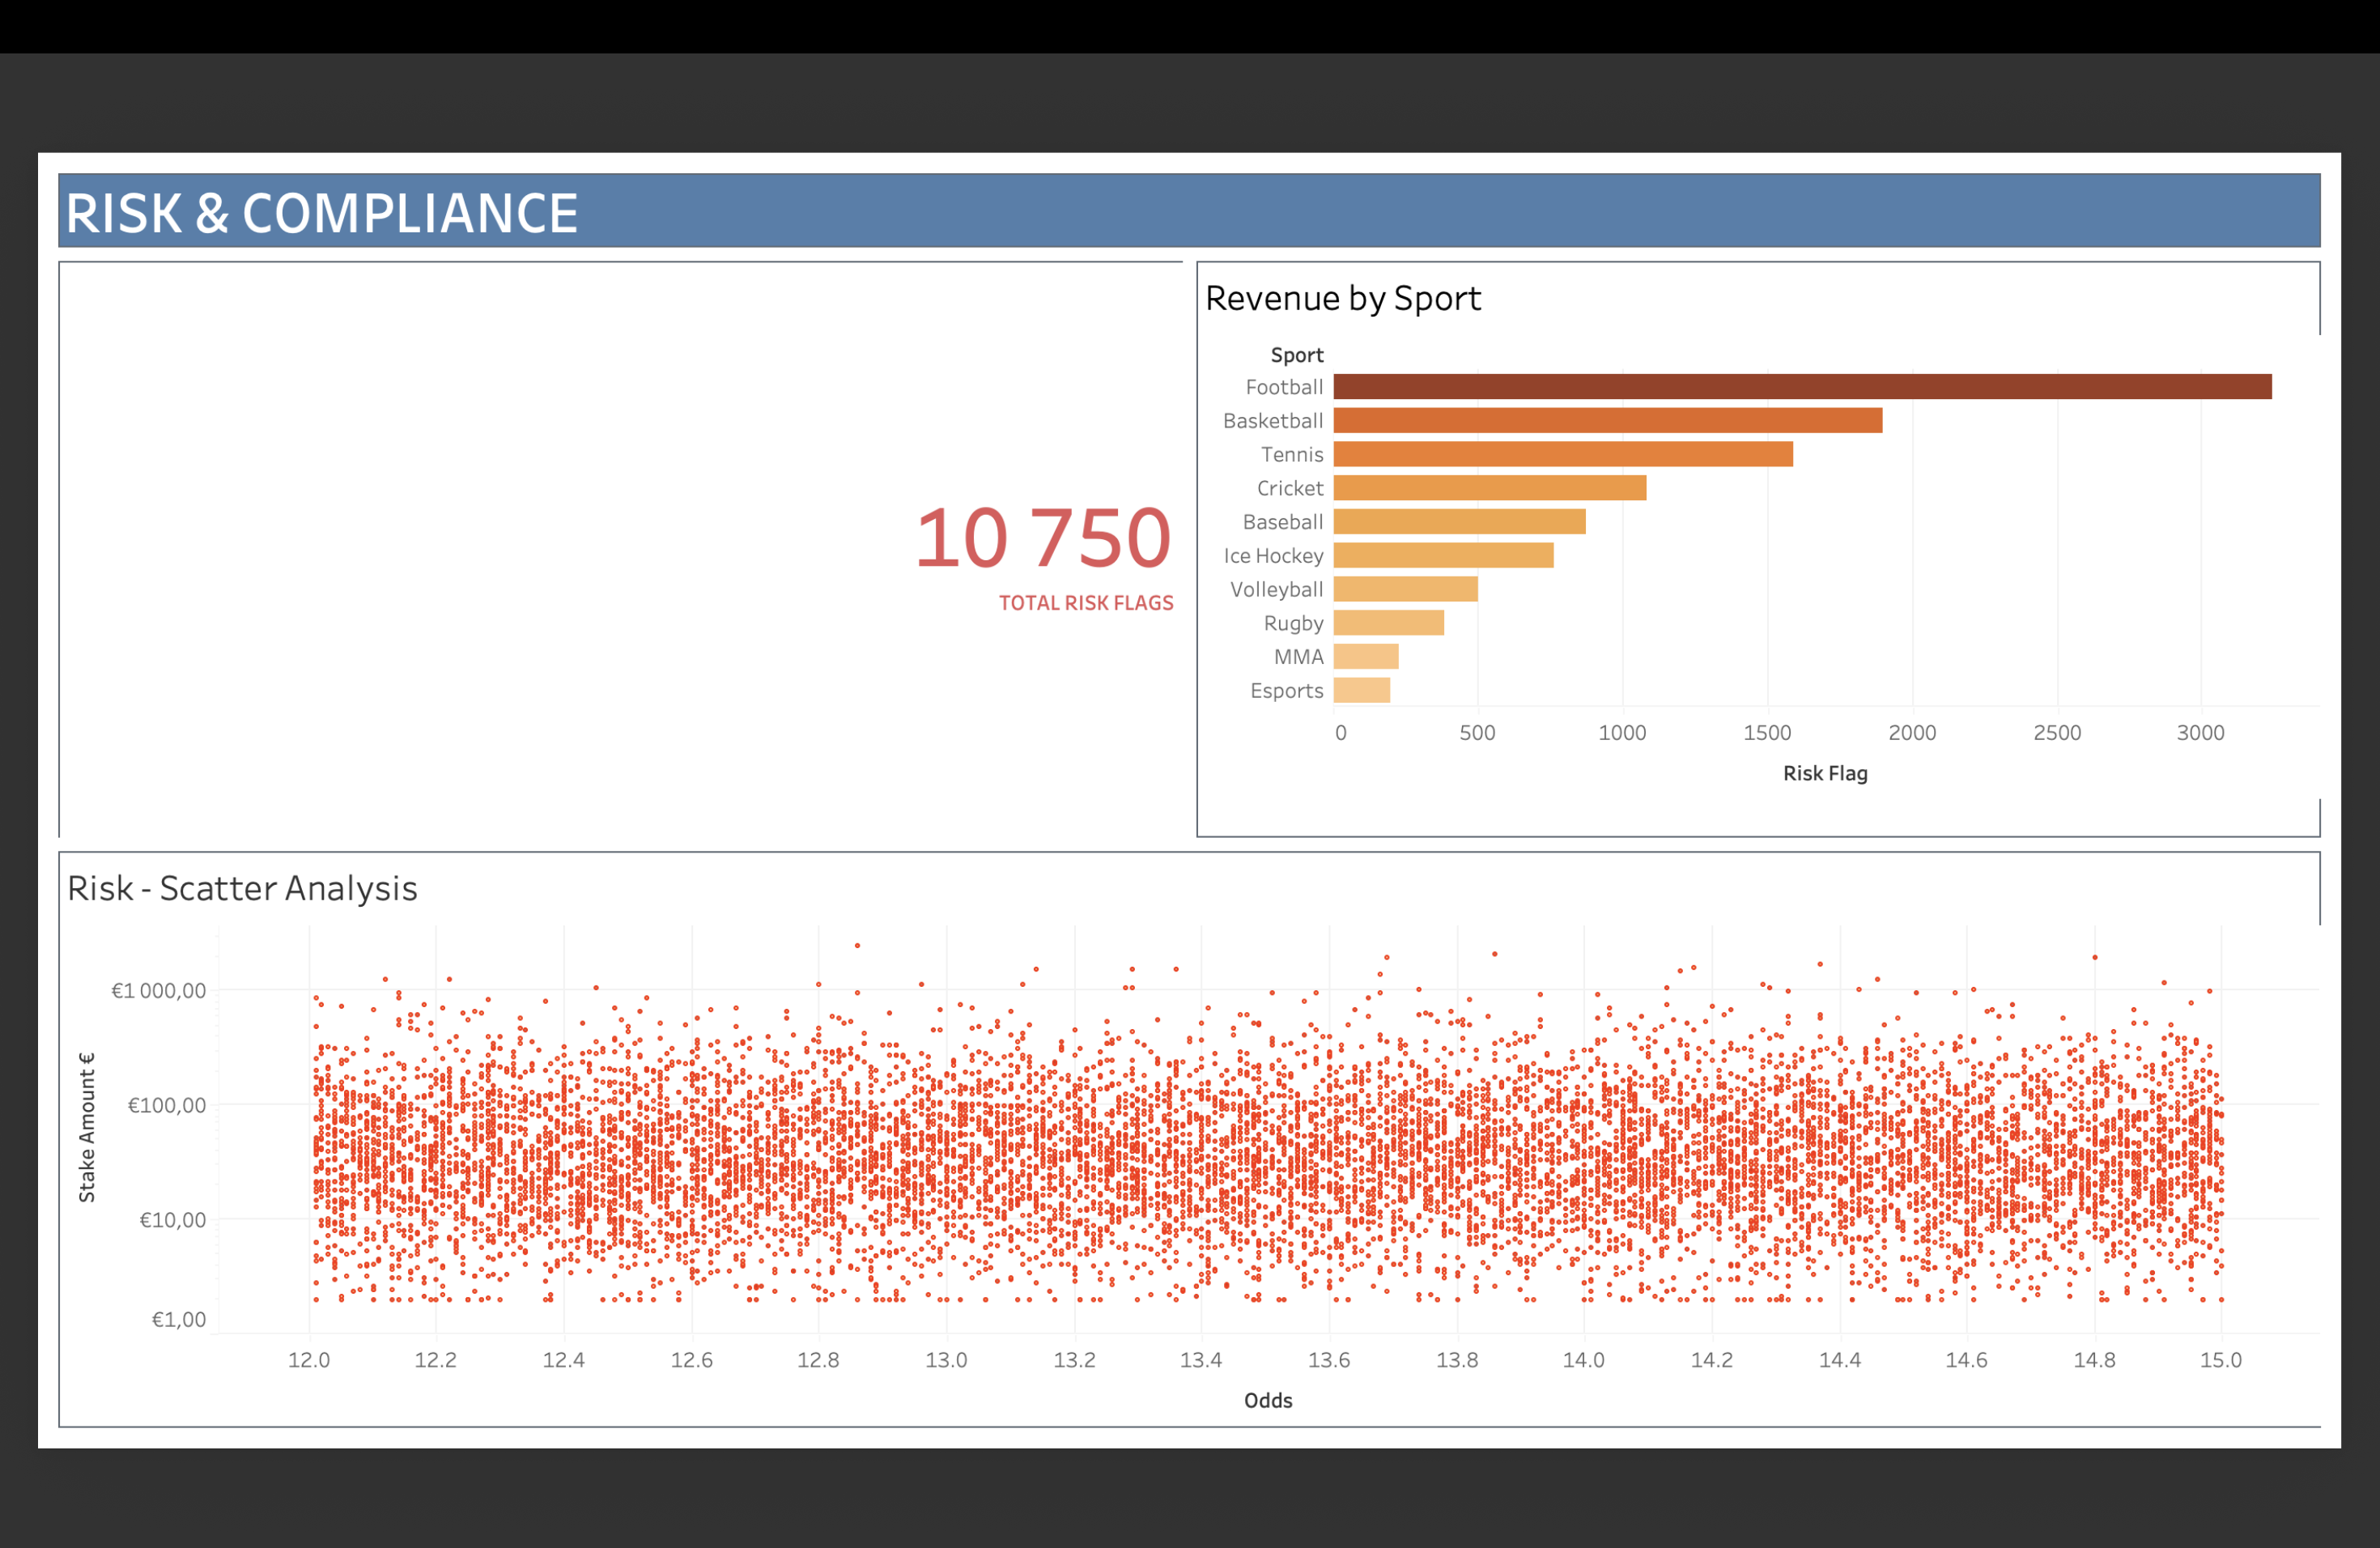

This screenshot's page, from the dashboard's own definition file:
{"tool":"tableau","page":{"name":"RISK & COMPLIANCE","canvas":[1366,768],"ordinal":2},"visuals":[{"type":"title","box":[8,8,1350,52]},{"type":"worksheet","title":"Risk - Total Flags","mark":"Automatic","box":[8,60,675,350]},{"type":"worksheet","title":"Risk Flags by Sport","mark":"Automatic","rows":["Sport"],"cols":["Risk_Flag"],"box":[683,60,675,350]},{"type":"worksheet","title":"Risk - Scatter Analysis","mark":"Circle","rows":["Stake_Amount_EUR"],"cols":["Odds"],"box":[8,410,1350,350]}]}

Visuals, with their boxes on the page's 1366x768 design canvas (x1, y1, x2, y2). These are canvas units, not pixel positions in the 2380x1548 screenshot, which may show the page scaled, cropped or inside an application window:
title: box(8, 8, 1358, 60)
"Risk - Total Flags" worksheet: box(8, 60, 683, 410)
"Risk Flags by Sport" worksheet: box(683, 60, 1358, 410)
"Risk - Scatter Analysis" worksheet (Circle marks): box(8, 410, 1358, 760)
